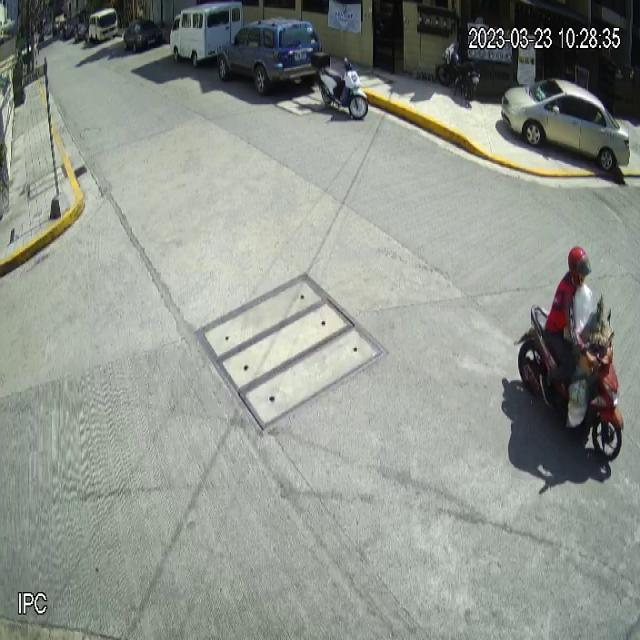Car: (501, 77, 631, 173), (216, 16, 323, 98)
Motorcycle: (516, 300, 626, 466), (311, 51, 368, 120)
Van: (169, 0, 243, 68)
